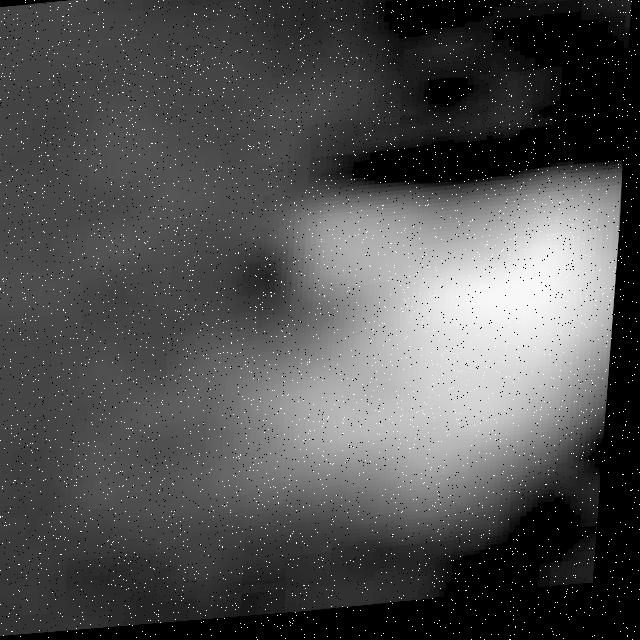person: (149, 158, 629, 544)
